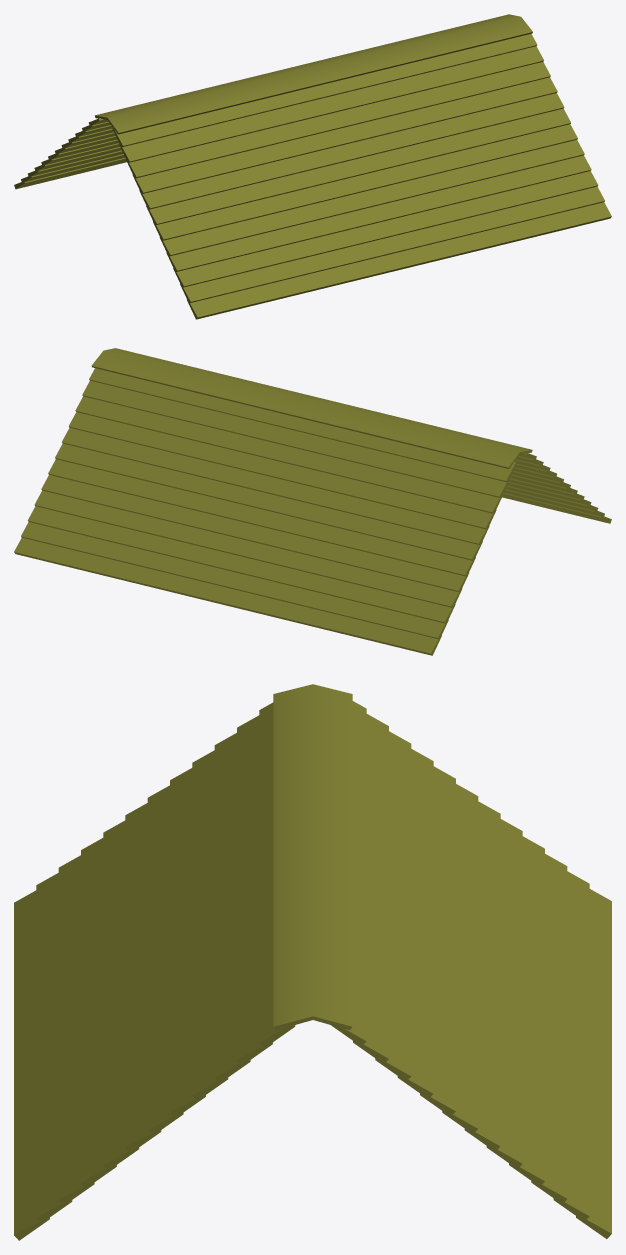
Rendered from Thatch.fbx.
3 renders of one model, top to bottom at view 1: azimuth 30°, elevation 25°; view 2: azimuth 150°, elevation 25°; view 3: azimuth 270°, elevation 25°, orthographic. The views are drawn at different scales.
Visible parts, largest first — view 1: Box265; view 2: Box265; view 3: Box265.
Boxes of the visible parts, x1,y1,x2,y2 form: Box265: (14,14,611,319); Box265: (14,348,611,655); Box265: (14,684,611,1240).
Size of the model in its own units: 1308 by 410 by 989.
